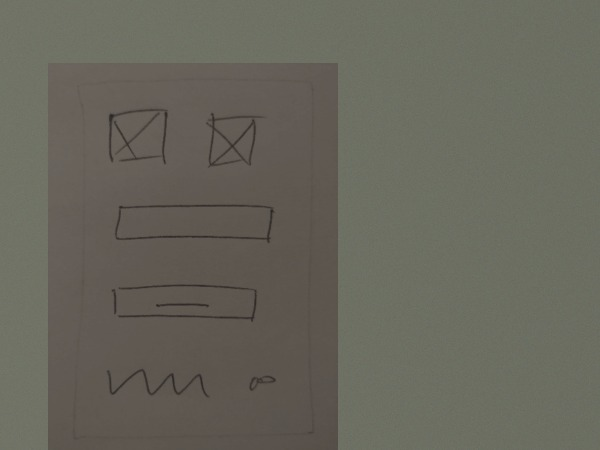button: (106, 279, 263, 329)
image: (102, 104, 173, 170), (202, 110, 268, 172)
switch: (242, 367, 285, 398)
text: (99, 357, 216, 407)
text_input: (108, 199, 278, 250)
